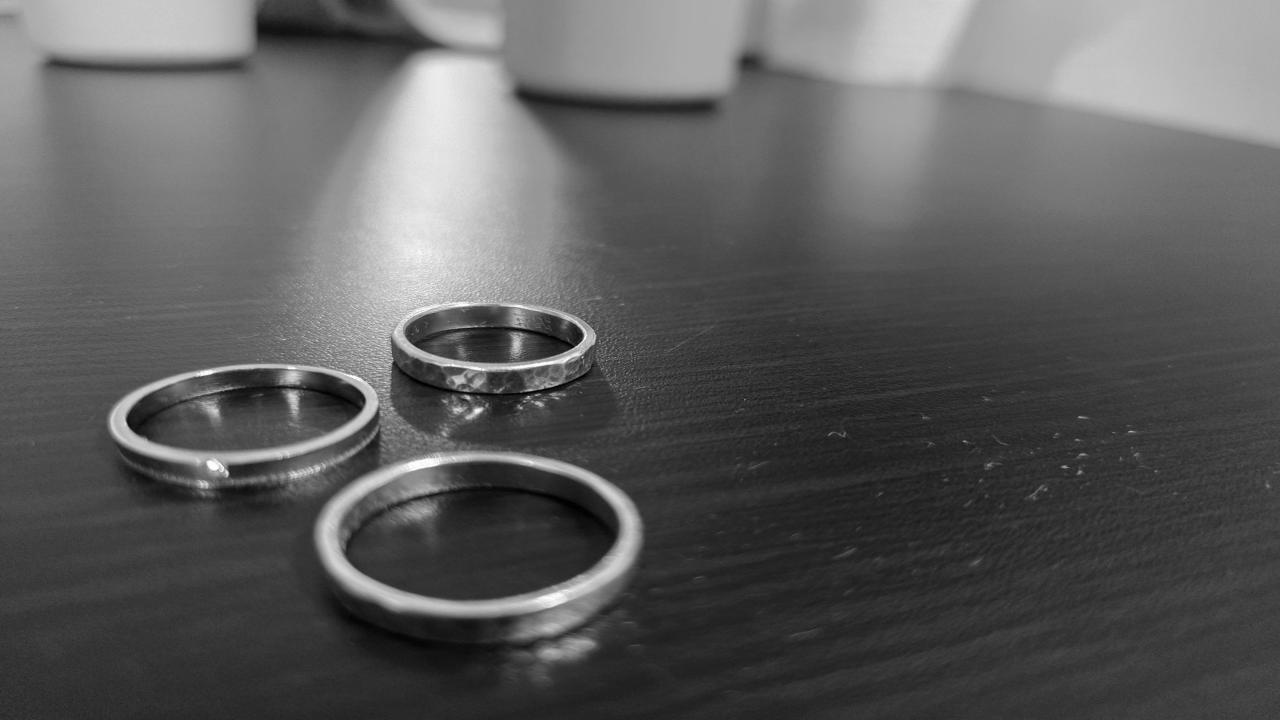ring: (309, 451, 644, 644), (106, 361, 385, 491), (390, 300, 603, 395)
